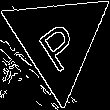P_NW: (31, 9, 85, 71)
